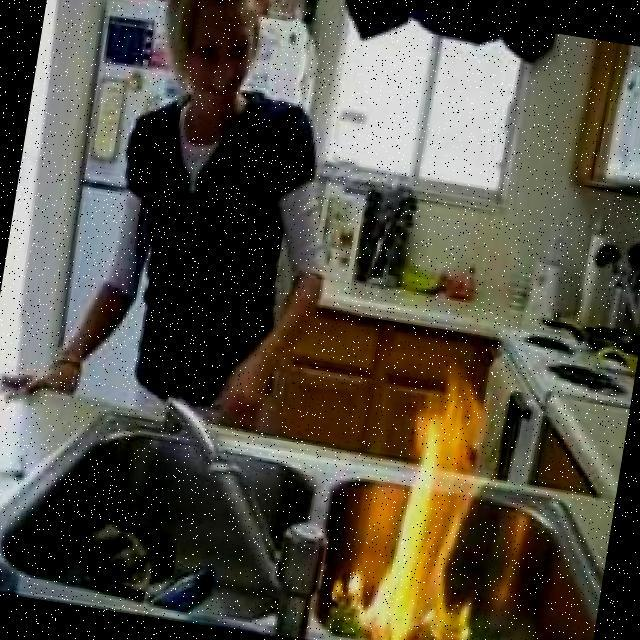Fire: (338, 350, 511, 640)
